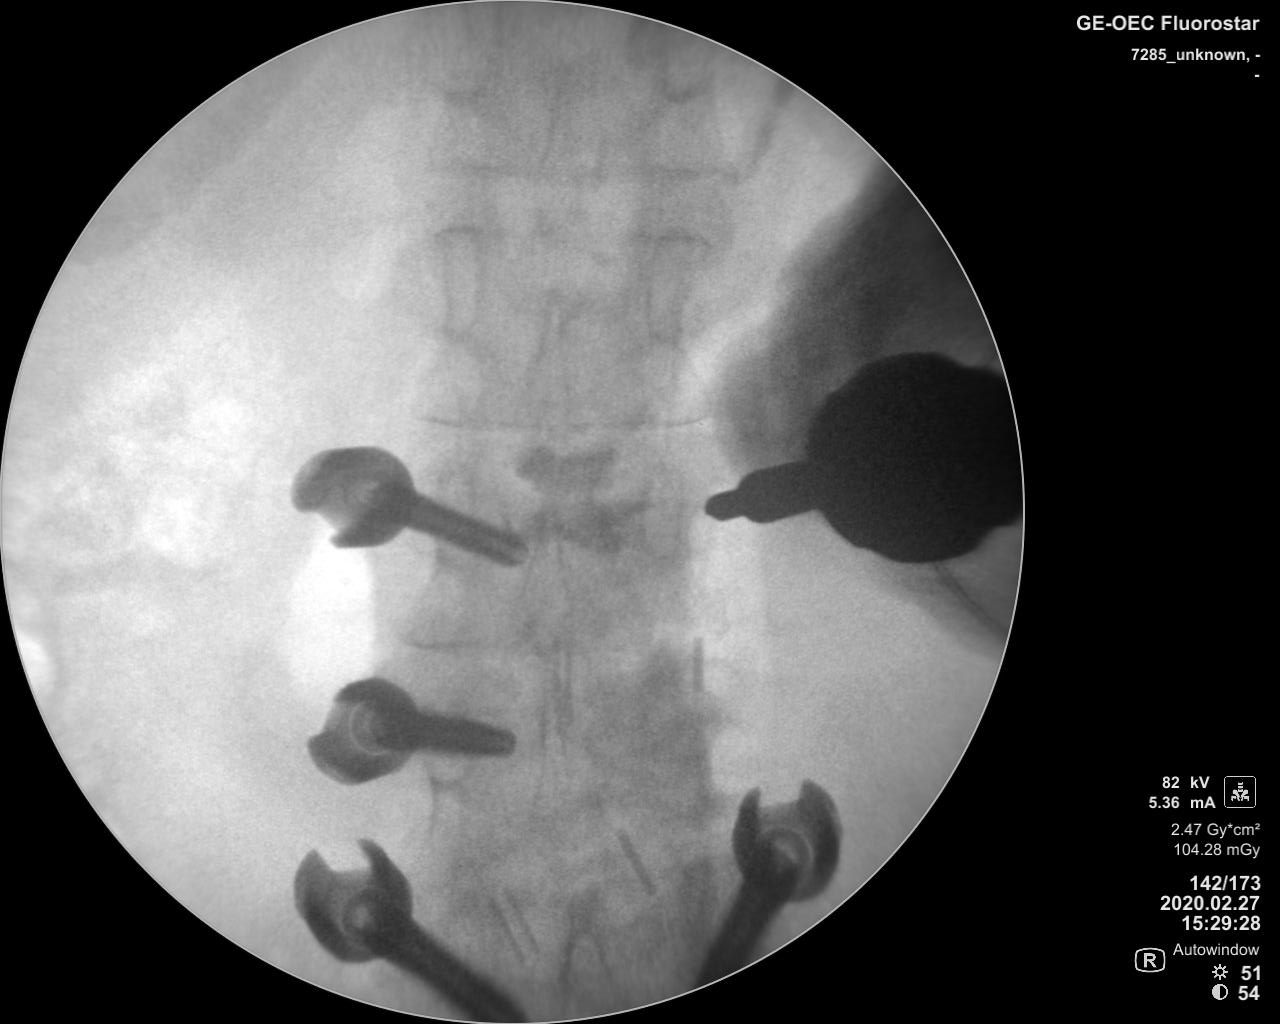eyes: (432, 4, 508, 104), (436, 222, 481, 342), (637, 464, 689, 558), (649, 231, 686, 347), (652, 28, 707, 104)
line: (435, 152, 749, 187), (403, 405, 720, 436), (423, 222, 713, 250)
nose: (514, 492, 575, 656), (527, 74, 585, 243), (522, 285, 578, 439)
